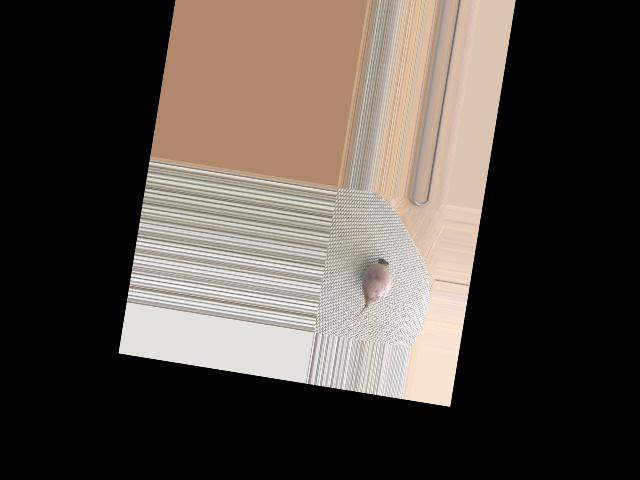beet: (348, 254, 395, 331)
